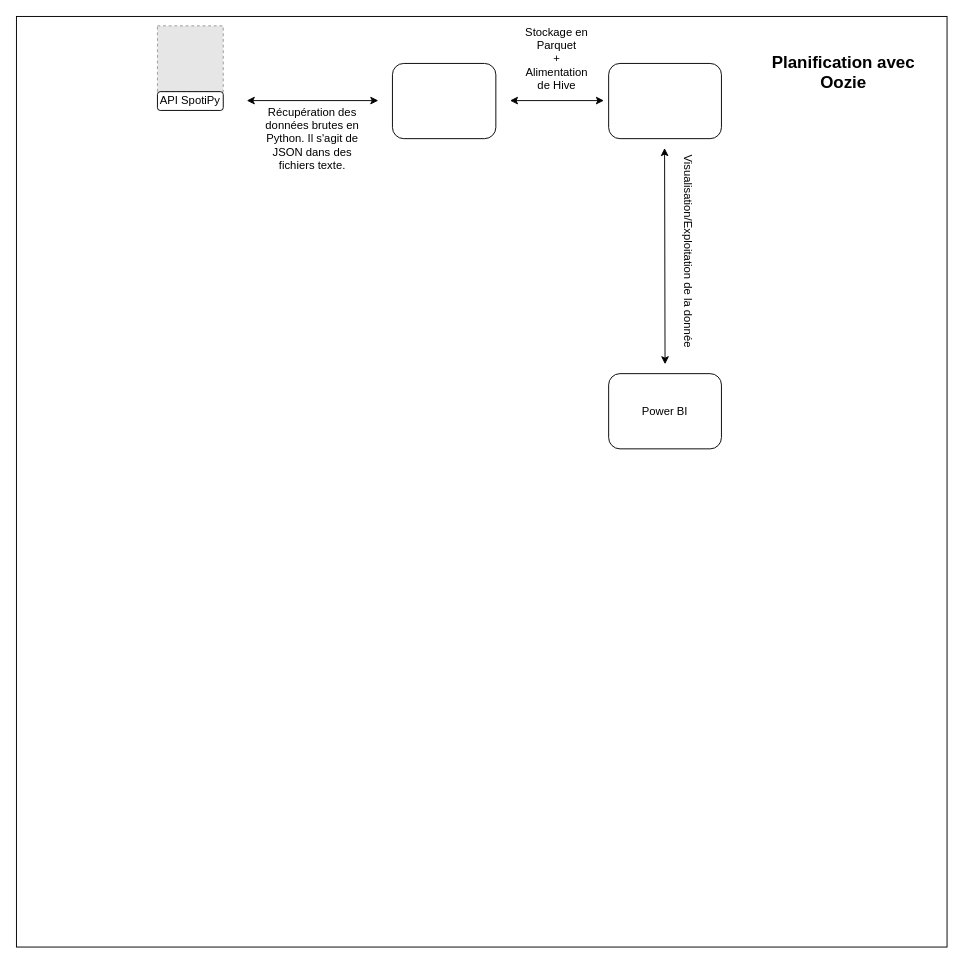
The diagram is 964 pixels wide and 964 high, and some of its shapes have lost their labels. Grey dashed boxes stand in for pictures. The shapes that lost their labels are listed below. From the top down, each one's centre as x and y in pixels, then its label:
At (444,101): "Traitement de la donnée avec SPARK".
At (664,101): "HDFS et Hive".
